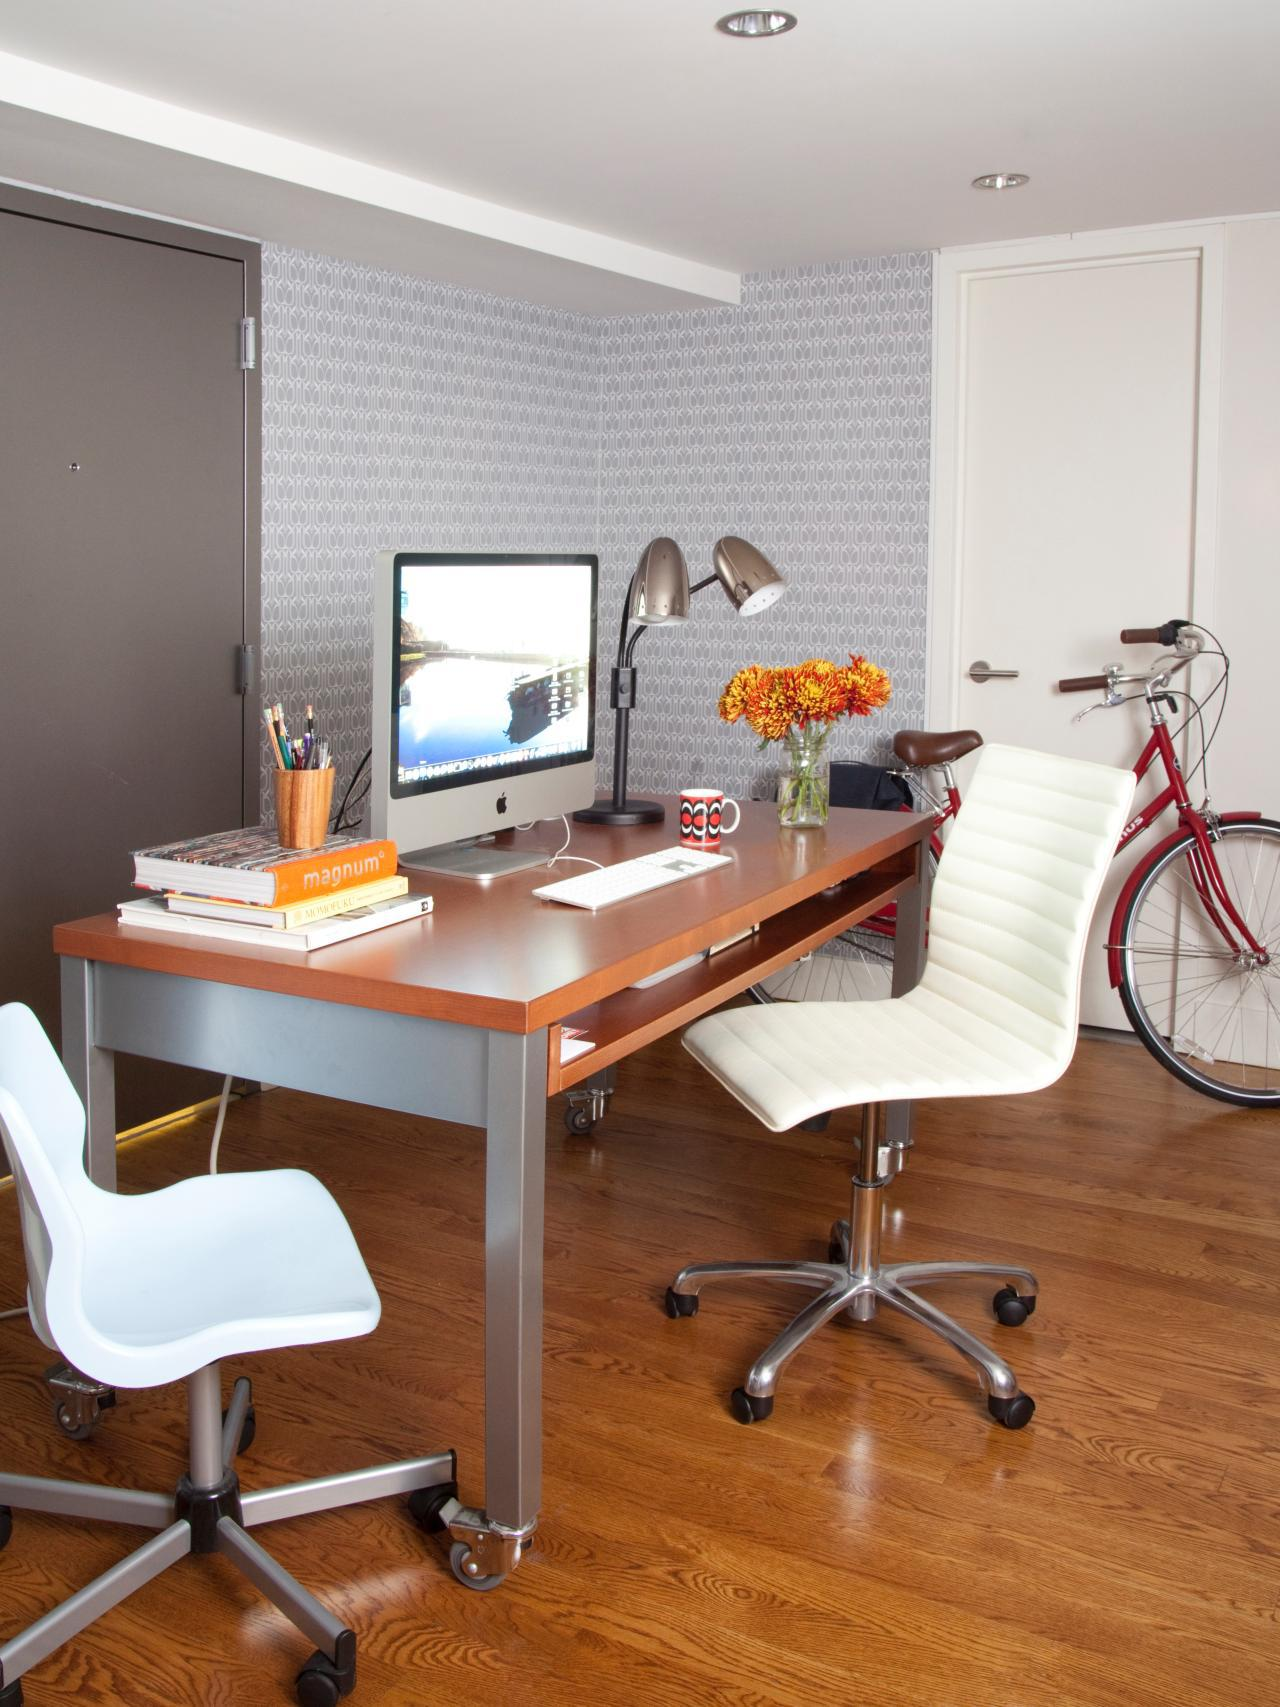chairs: (1, 992, 492, 1707), (664, 733, 1140, 1440)
